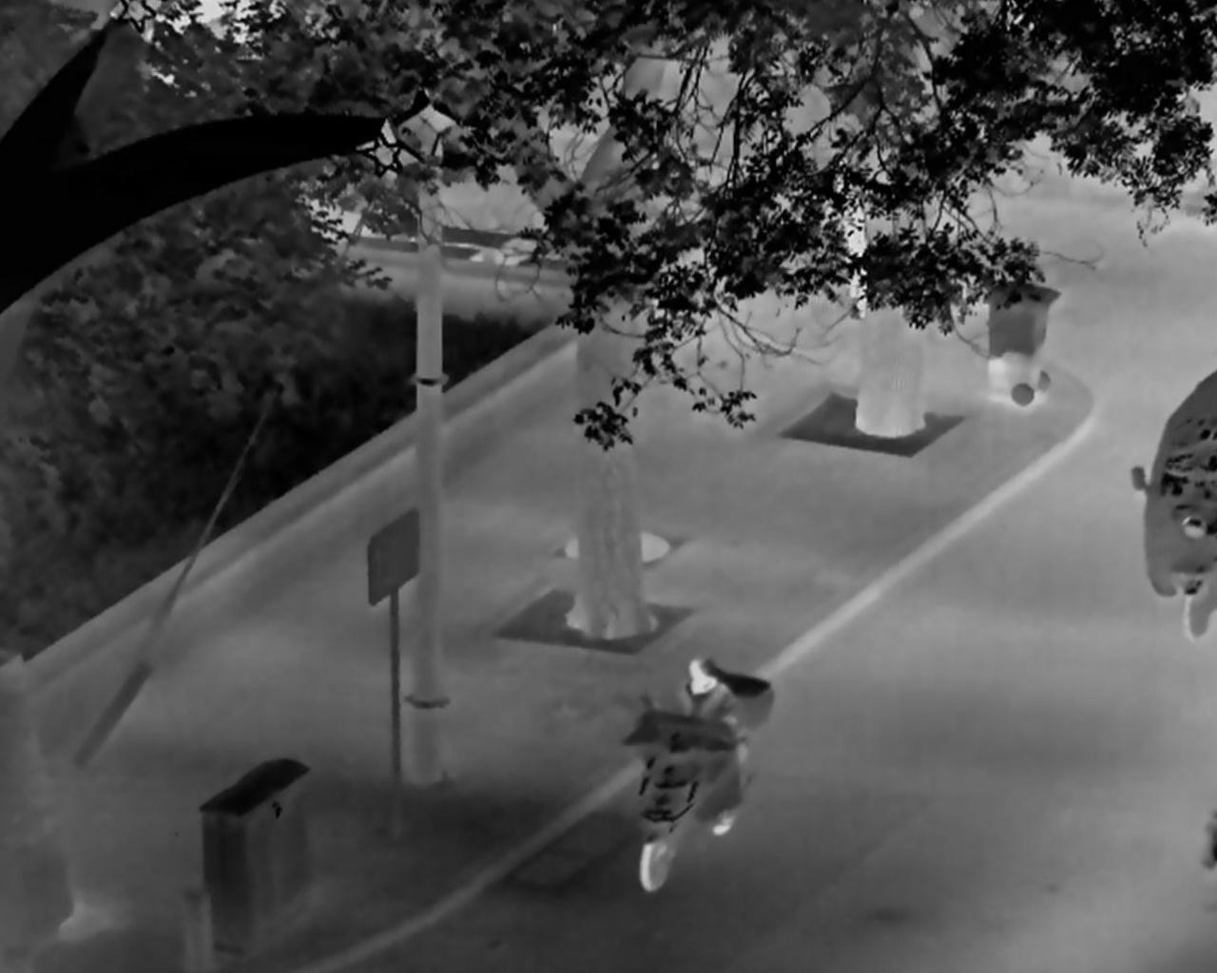person: (647, 655, 752, 835), (825, 148, 869, 317)
